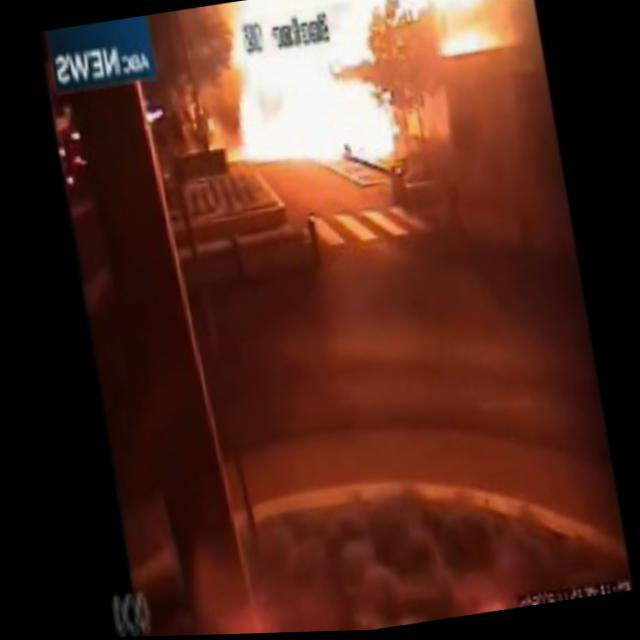fire: (232, 0, 381, 91), (294, 85, 391, 174), (427, 0, 523, 52), (246, 94, 296, 164)
